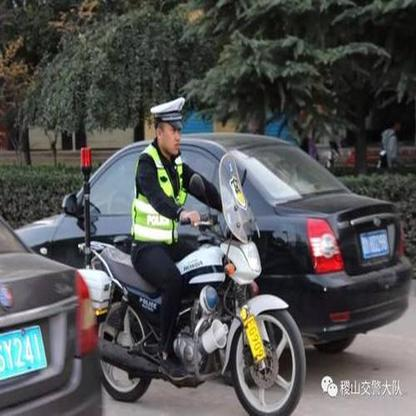target: (78, 94, 306, 410)
